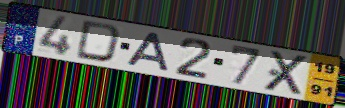2: (173, 36, 214, 82)
4: (37, 14, 74, 57)
7: (228, 43, 264, 87)
A: (124, 31, 171, 74)
D: (73, 18, 124, 64)
X: (261, 50, 312, 97)
